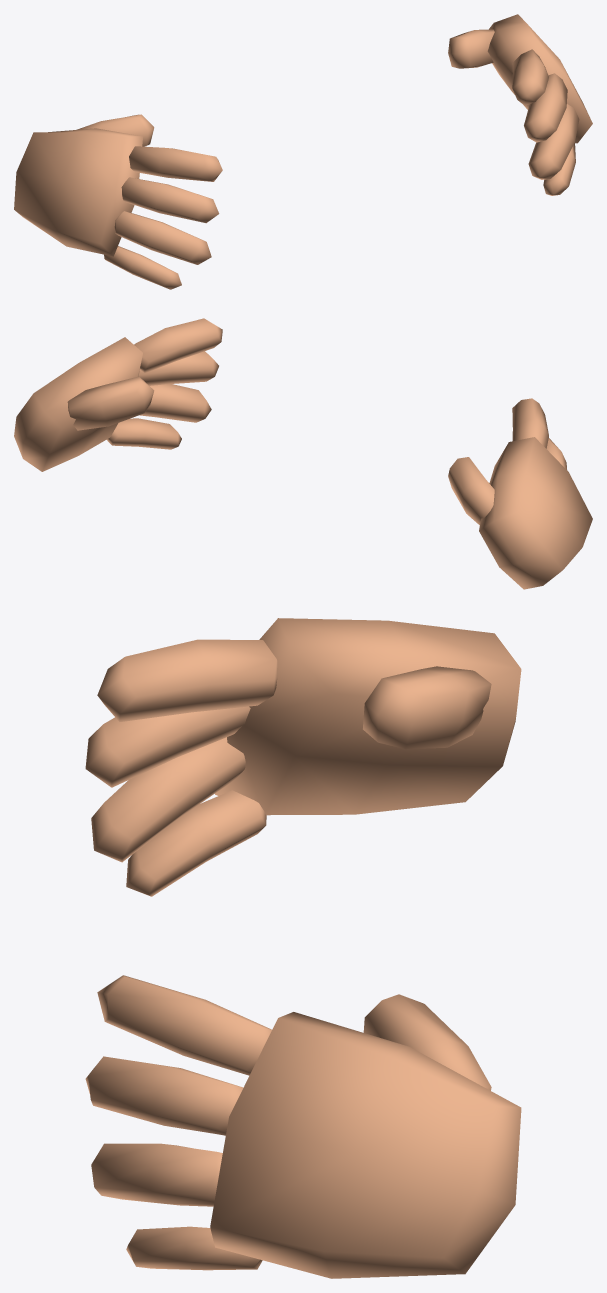
The model's file is ManosPlayer.fbx.
The picture shows the model from 3 angles, top to bottom: view 1: azimuth 30°, elevation 25°; view 2: azimuth 150°, elevation 25°; view 3: azimuth 270°, elevation 25°; orthographic projection. The views are drawn at different scales.
Visible parts, largest first — view 1: Cube.007; view 2: Cube.007; view 3: Cube.007.
Part boxes in pixels (box(x1,y1,x2,y2)): Cube.007: box(14, 14, 592, 289); Cube.007: box(14, 318, 592, 589); Cube.007: box(85, 618, 521, 1278).
Bounding box in the file's own units: 233 × 54.04 × 80.27.
